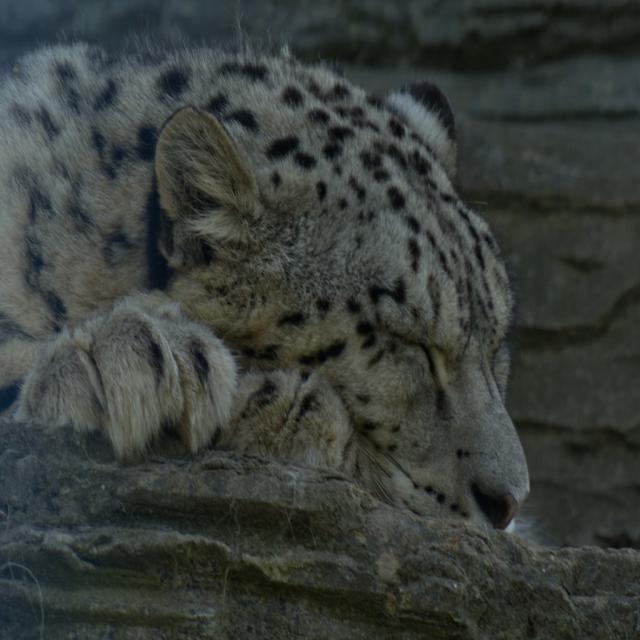Cheetah: (0, 0, 529, 553)
